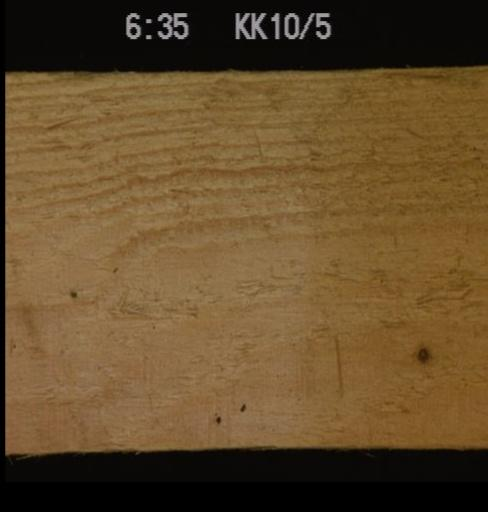small_knot: (64, 284, 80, 302), (106, 262, 125, 277), (233, 400, 249, 414), (209, 410, 224, 424)
